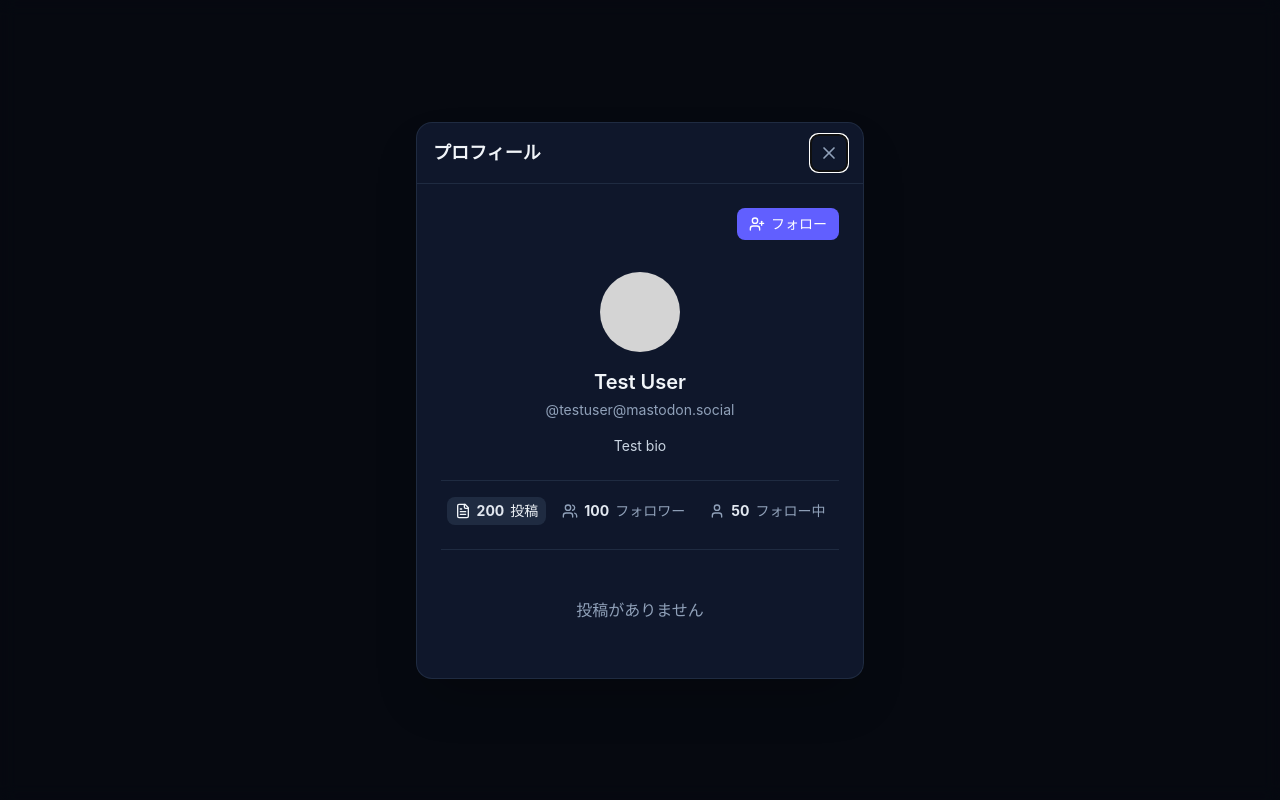
Test: ProfileModal › Tab navigation › shows followers empty state
This screenshot has width=1280, height=800.
What coordinates should you click on to do the following:
click the tab "100 フォロワー"
I would click on:
 (624, 510)
Its box is [554,496,693,524].
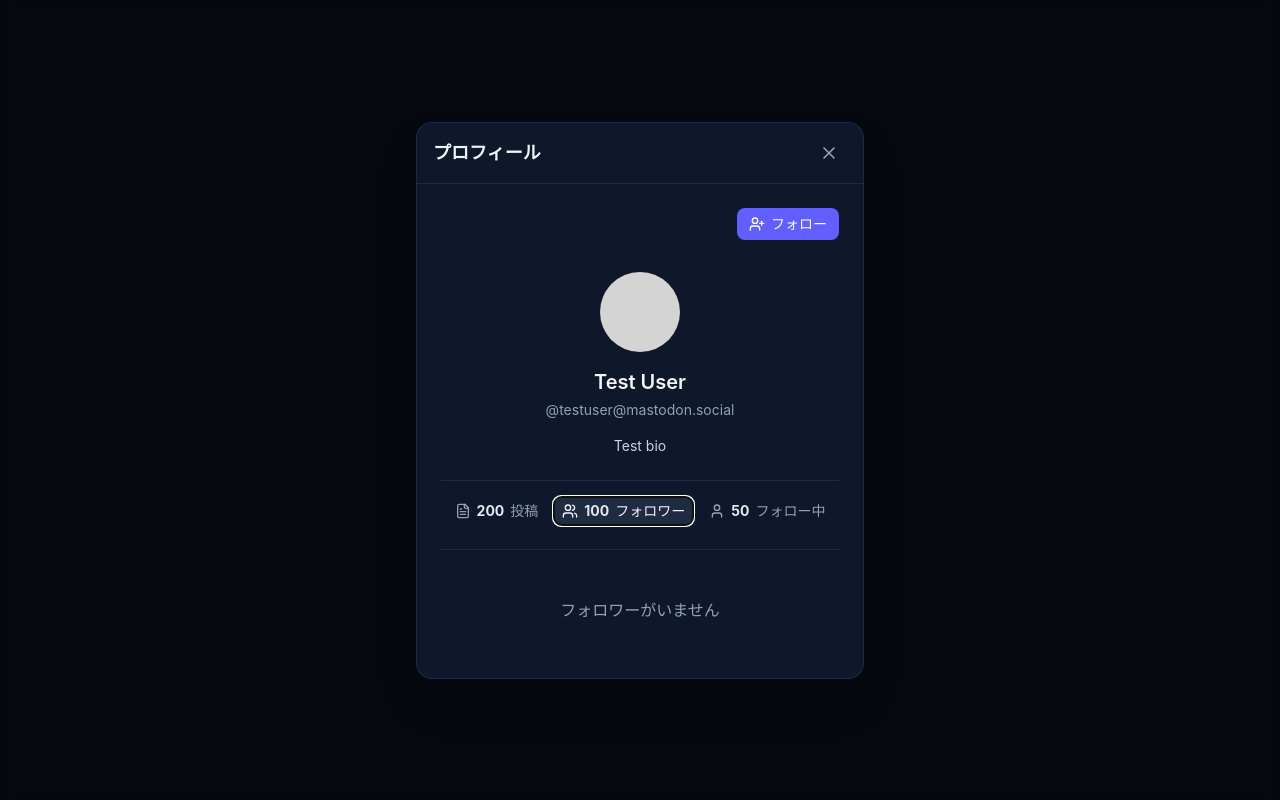
Result: the text "フォロワーがいません" is shown at [560,600,720,620]
